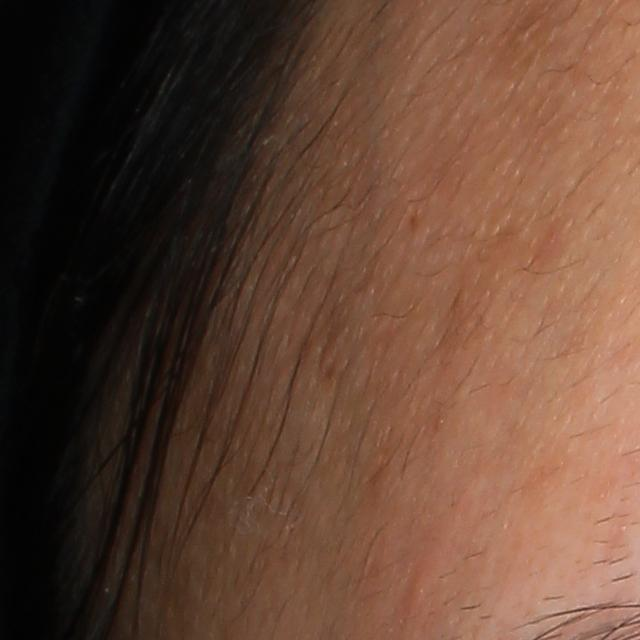papule: (406, 551, 442, 612)
